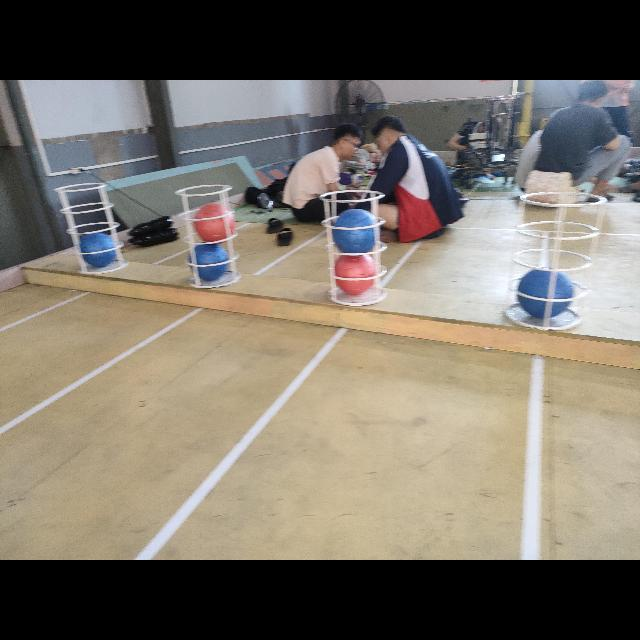B: (518, 268, 572, 318), (334, 209, 380, 253), (77, 232, 116, 268), (189, 246, 229, 280)
R: (192, 204, 238, 242), (335, 254, 373, 294)
